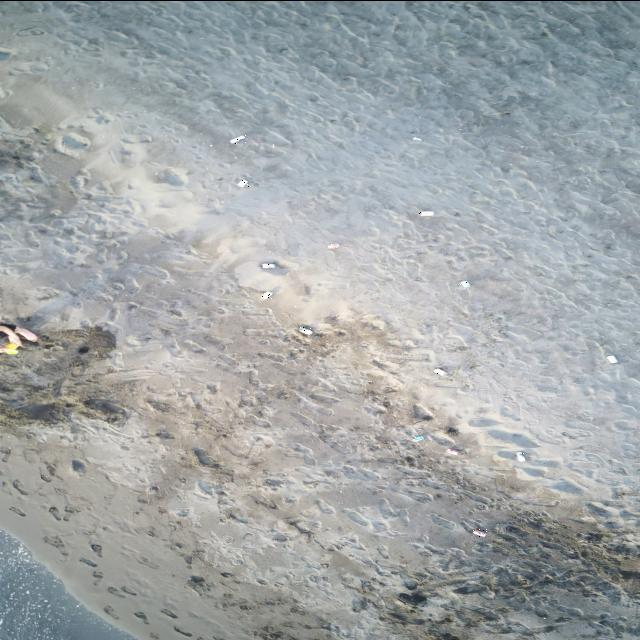Garbage: (0, 324, 36, 353), (0, 324, 19, 346), (412, 403, 432, 420), (15, 327, 36, 340), (298, 324, 312, 335), (0, 344, 16, 353), (432, 367, 447, 375), (417, 209, 433, 216), (446, 447, 460, 455), (260, 261, 276, 268), (515, 451, 526, 460), (472, 528, 486, 535), (230, 136, 244, 143), (457, 280, 470, 287), (236, 179, 247, 187), (260, 291, 272, 298), (607, 355, 617, 363), (327, 243, 339, 248), (412, 435, 423, 440), (412, 136, 420, 140)
